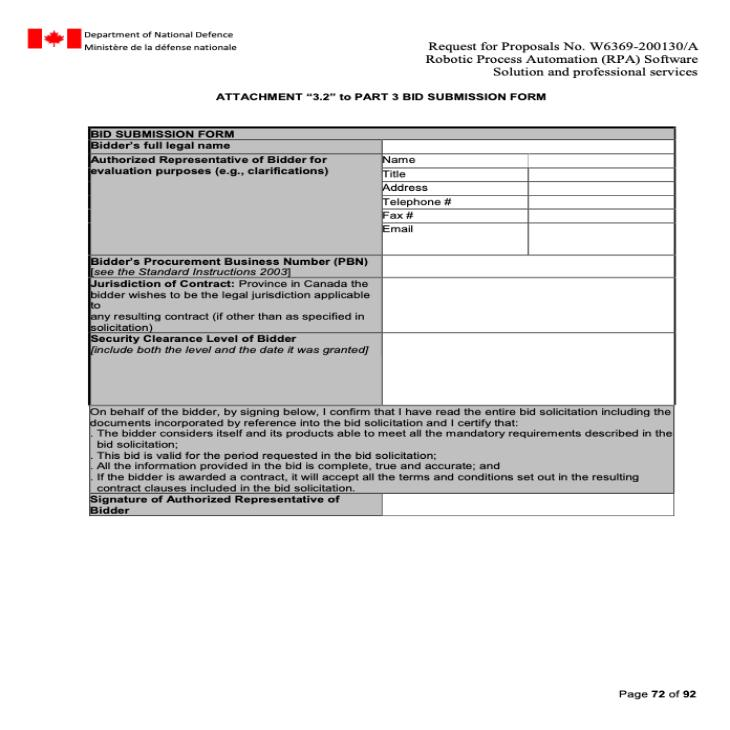tabulation: (73, 114, 682, 525)
